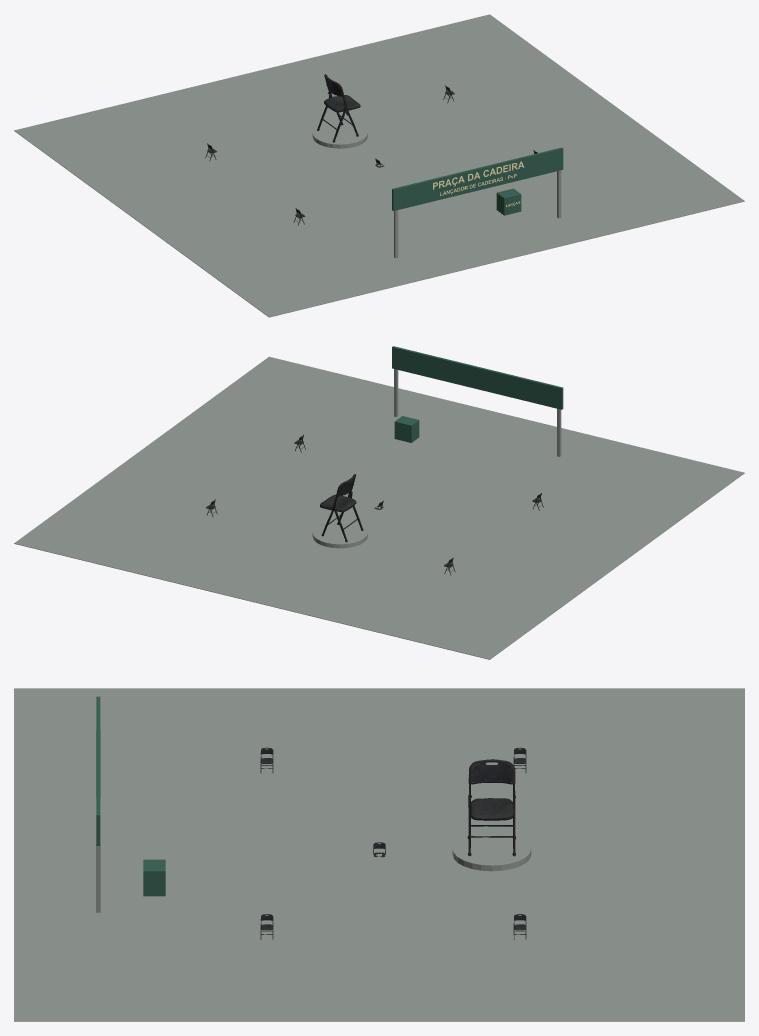
Rendered from secret-chair-plaza.glb.
3 renders of one model, top to bottom at view 1: azimuth 30°, elevation 25°; view 2: azimuth 150°, elevation 25°; view 3: azimuth 270°, elevation 25°, orthographic. The views are drawn at different scales.
Visible parts, largest first — view 1: Chair_Plaza_Paving, Chair_Header, Chair_Monument_Base, tripo_node_663389ab-b179-4287-8c80-e7cfe42ebb04.004, Chair_Launch_Console; view 2: Chair_Plaza_Paving, Chair_Header, Chair_Monument_Base, tripo_node_663389ab-b179-4287-8c80-e7cfe42ebb04.004, Chair_Launch_Console; view 3: Chair_Plaza_Paving, tripo_node_663389ab-b179-4287-8c80-e7cfe42ebb04.004, Chair_Monument_Base, Chair_Launch_Console, Chair_Header.
Part boxes in pixels (x1,y1,x2,y2): Chair_Plaza_Paving: (14, 14, 744, 317); Chair_Header: (392, 147, 563, 210); Chair_Monument_Base: (312, 121, 367, 148); tripo_node_663389ab-b179-4287-8c80-e7cfe42ebb04.004: (317, 74, 360, 142); Chair_Launch_Console: (496, 188, 521, 215); Chair_Plaza_Paving: (14, 356, 744, 659); Chair_Header: (392, 346, 563, 409); Chair_Monument_Base: (312, 521, 367, 548); tripo_node_663389ab-b179-4287-8c80-e7cfe42ebb04.004: (320, 474, 363, 542); Chair_Launch_Console: (394, 416, 419, 442); Chair_Plaza_Paving: (14, 688, 744, 1021); tripo_node_663389ab-b179-4287-8c80-e7cfe42ebb04.004: (467, 759, 515, 856); Chair_Monument_Base: (452, 832, 531, 871); Chair_Launch_Console: (143, 859, 165, 896); Chair_Header: (96, 696, 100, 845).
Size of the model in its own units: 28 by 4.32 by 26.
4 materials, 1 textured.
